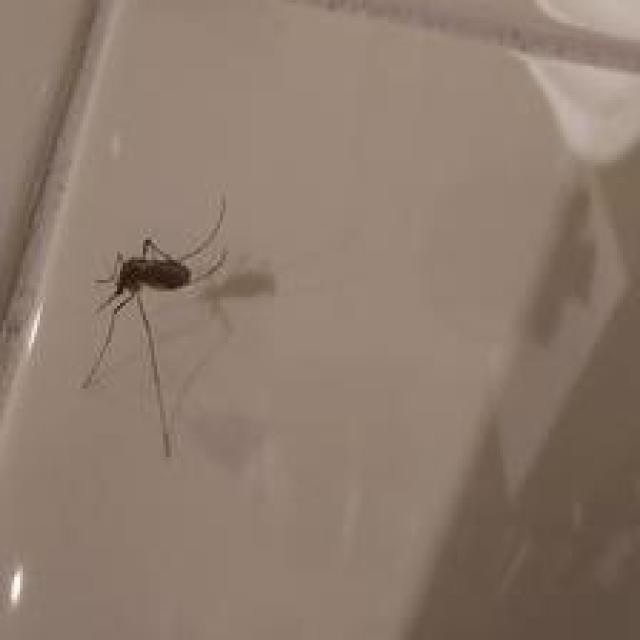Culex: (78, 192, 233, 457)
